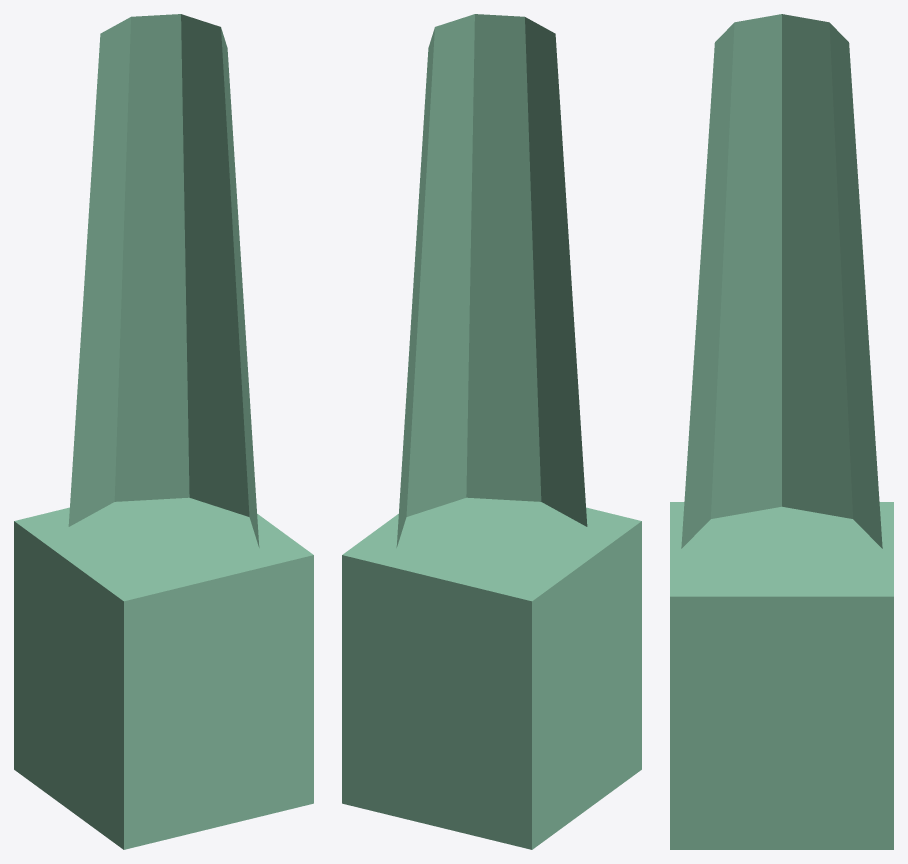
The model's file is statue-of-liberty.glb.
3 renders of one model, left to right at view 1: azimuth 30°, elevation 25°; view 2: azimuth 150°, elevation 25°; view 3: azimuth 270°, elevation 25°, orthographic.
Parts seen in each view (by area): view 1: statue-of-liberty; view 2: statue-of-liberty; view 3: statue-of-liberty.
Part boxes in pixels (x1,y1,x2,y2): statue-of-liberty: (14, 14, 313, 849); statue-of-liberty: (342, 14, 641, 849); statue-of-liberty: (670, 14, 893, 849).
Bounding box in the file's own units: 0.4 × 1.5 × 0.4.
